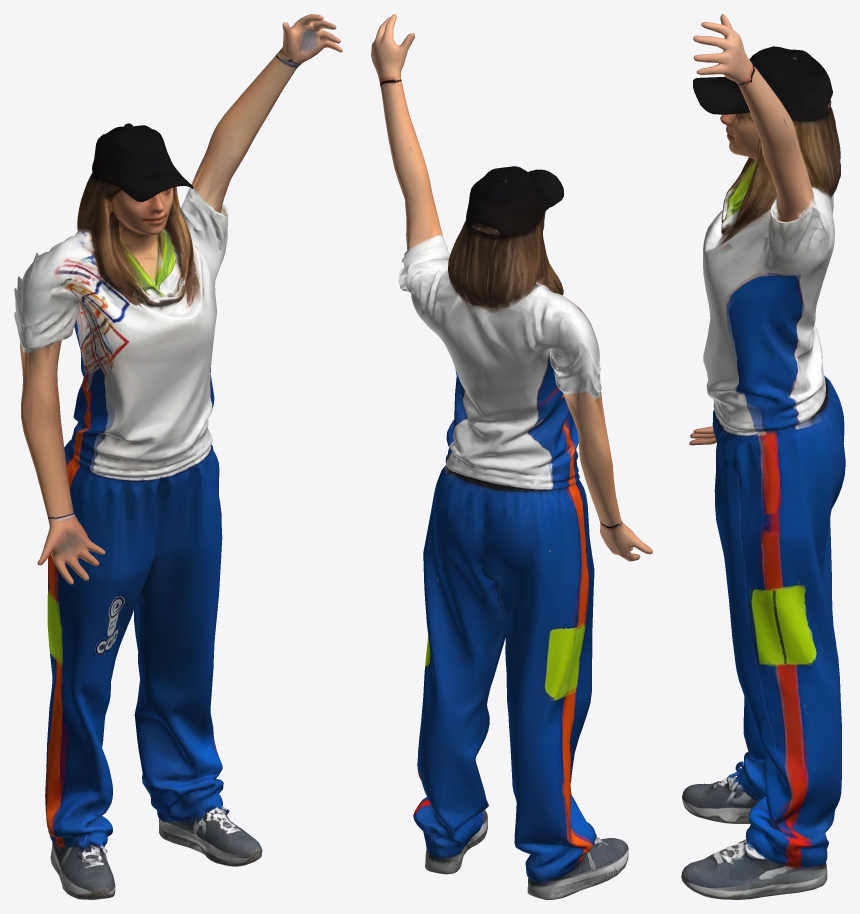
The model's file is lara.glb.
The picture shows the model from 3 angles, left to right: view 1: azimuth 30°, elevation 25°; view 2: azimuth 150°, elevation 25°; view 3: azimuth 270°, elevation 25°; orthographic projection. The views are drawn at different scales.
Size of the model in its own units: 0.6093 by 1.64 by 0.2677.
Materials: 1 (1 with a texture image).
